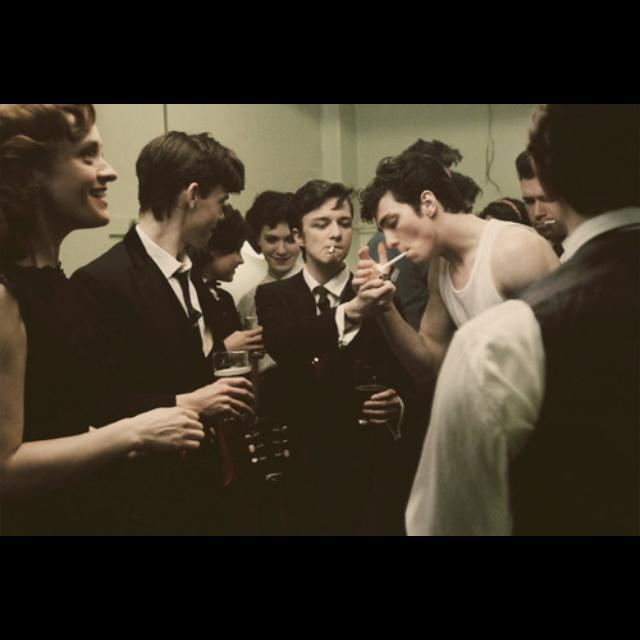rokok: (377, 250, 409, 268), (545, 216, 557, 226), (325, 244, 337, 253)
